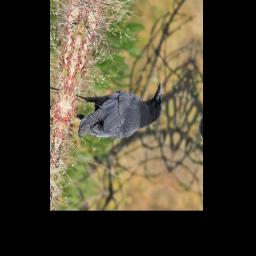Crow: (66, 58, 167, 160)
